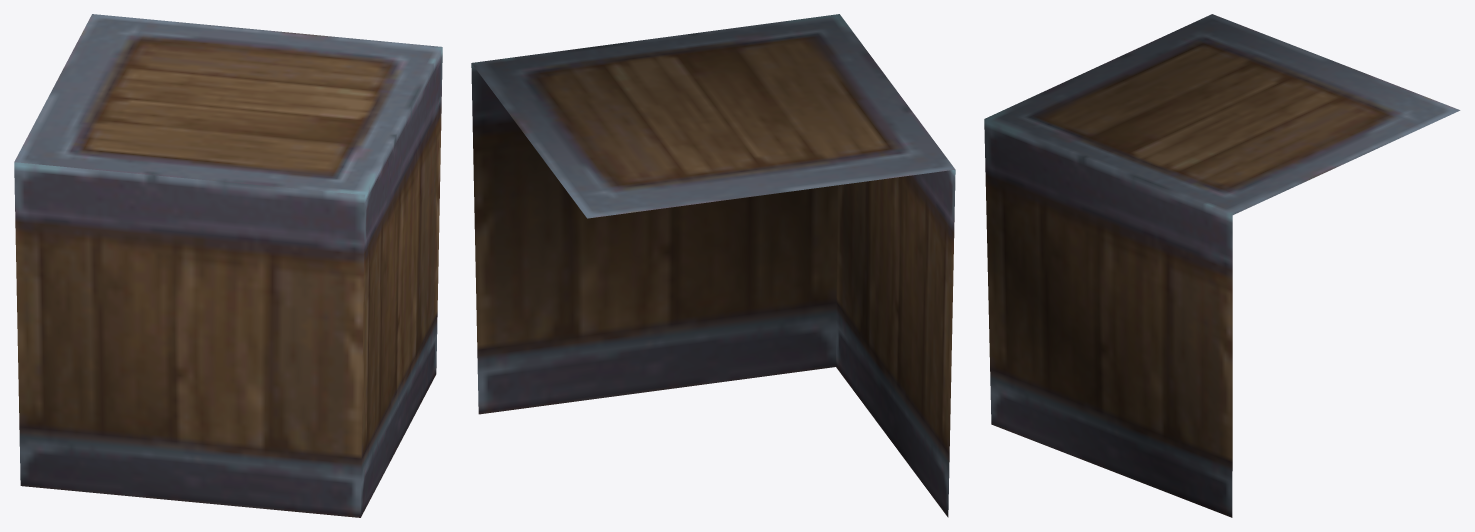
The model's file is yw_demohaidao_wooden_001.FBX.
3 renders of one model, left to right at view 1: azimuth 30°, elevation 25°; view 2: azimuth 150°, elevation 25°; view 3: azimuth 270°, elevation 25°, orthographic. The views are drawn at different scales.
Visible parts, largest first — view 1: yw_demohaidao_wooden_001; view 2: yw_demohaidao_wooden_001; view 3: yw_demohaidao_wooden_001.
Part boxes in pixels (left/top/right/bottom): yw_demohaidao_wooden_001: left=14, top=14, right=442, bottom=517; yw_demohaidao_wooden_001: left=471, top=14, right=955, bottom=517; yw_demohaidao_wooden_001: left=984, top=14, right=1460, bottom=517.
Bounding box in the file's own units: 75.62 × 75.62 × 53.52.
